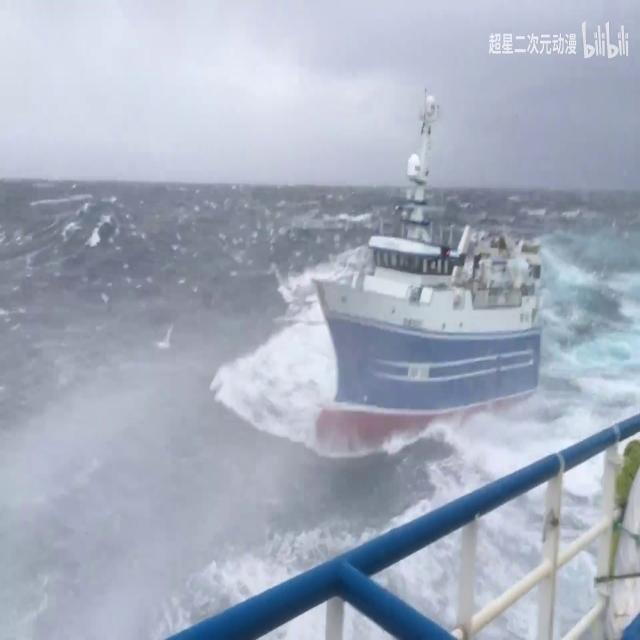houseboat: (306, 97, 544, 450)
